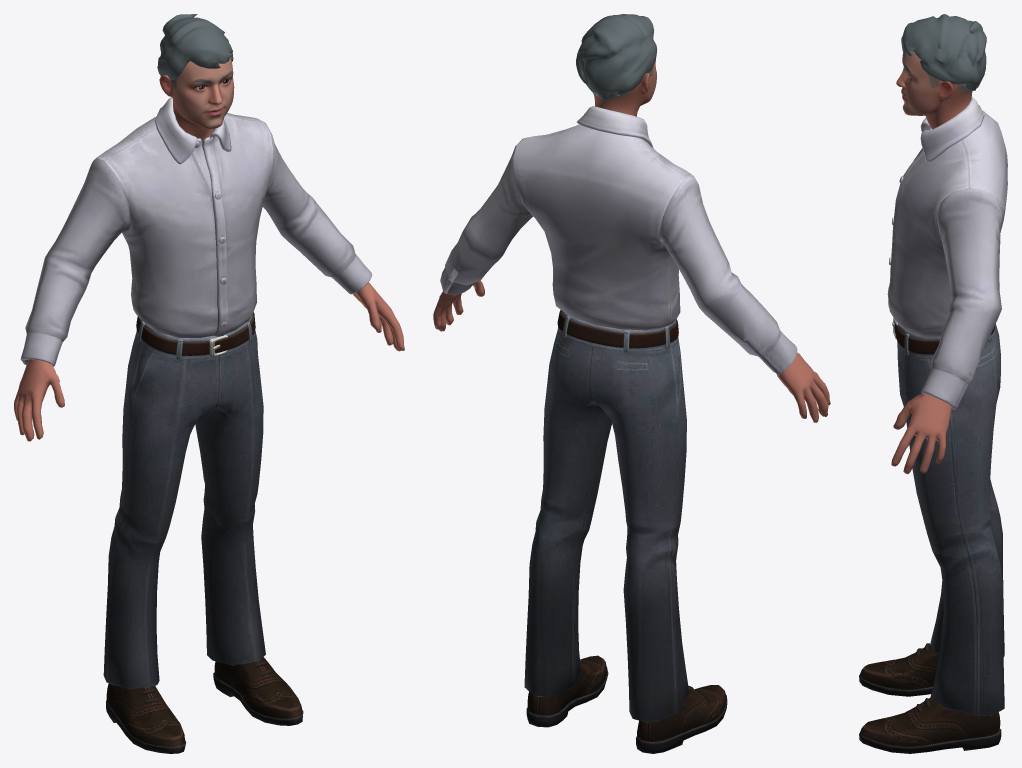
File: presidente.glb
3 renders of one model, left to right at view 1: azimuth 30°, elevation 25°; view 2: azimuth 150°, elevation 25°; view 3: azimuth 270°, elevation 25°, orthographic.
Visible parts, largest first — view 1: Wolf3D_Outfit_Top, Wolf3D_Outfit_Bottom, Wolf3D_Outfit_Footwear, Wolf3D_Head, Wolf3D_Body, Wolf3D_Hair; view 2: Wolf3D_Outfit_Bottom, Wolf3D_Outfit_Top, Wolf3D_Outfit_Footwear, Wolf3D_Hair, Wolf3D_Body, Wolf3D_Head; view 3: Wolf3D_Outfit_Top, Wolf3D_Outfit_Bottom, Wolf3D_Outfit_Footwear, Wolf3D_Hair, Wolf3D_Head, Wolf3D_Body.
Part boxes in pixels (x1=…): Wolf3D_Outfit_Top: x1=20, y1=97, x2=372, y2=367; Wolf3D_Outfit_Bottom: x1=103, y1=312, x2=265, y2=689; Wolf3D_Outfit_Footwear: x1=106, y1=656, x2=303, y2=753; Wolf3D_Head: x1=159, y1=57, x2=234, y2=143; Wolf3D_Body: x1=14, y1=282, x2=404, y2=441; Wolf3D_Hair: x1=157, y1=14, x2=233, y2=79; Wolf3D_Outfit_Bottom: x1=524, y1=309, x2=689, y2=722; Wolf3D_Outfit_Top: x1=440, y1=106, x2=797, y2=375; Wolf3D_Outfit_Footwear: x1=526, y1=655, x2=727, y2=753; Wolf3D_Hair: x1=576, y1=14, x2=657, y2=101; Wolf3D_Body: x1=433, y1=280, x2=830, y2=422; Wolf3D_Head: x1=593, y1=57, x2=656, y2=116; Wolf3D_Outfit_Top: x1=887, y1=97, x2=1007, y2=409; Wolf3D_Outfit_Bottom: x1=892, y1=317, x2=1004, y2=715; Wolf3D_Outfit_Footwear: x1=859, y1=643, x2=1001, y2=753; Wolf3D_Hair: x1=901, y1=14, x2=986, y2=91; Wolf3D_Head: x1=896, y1=51, x2=972, y2=129; Wolf3D_Body: x1=891, y1=393, x2=951, y2=473.
Bounding box in the file's own units: 1.06 × 1.86 × 0.3595.
8 materials, 8 textured.
